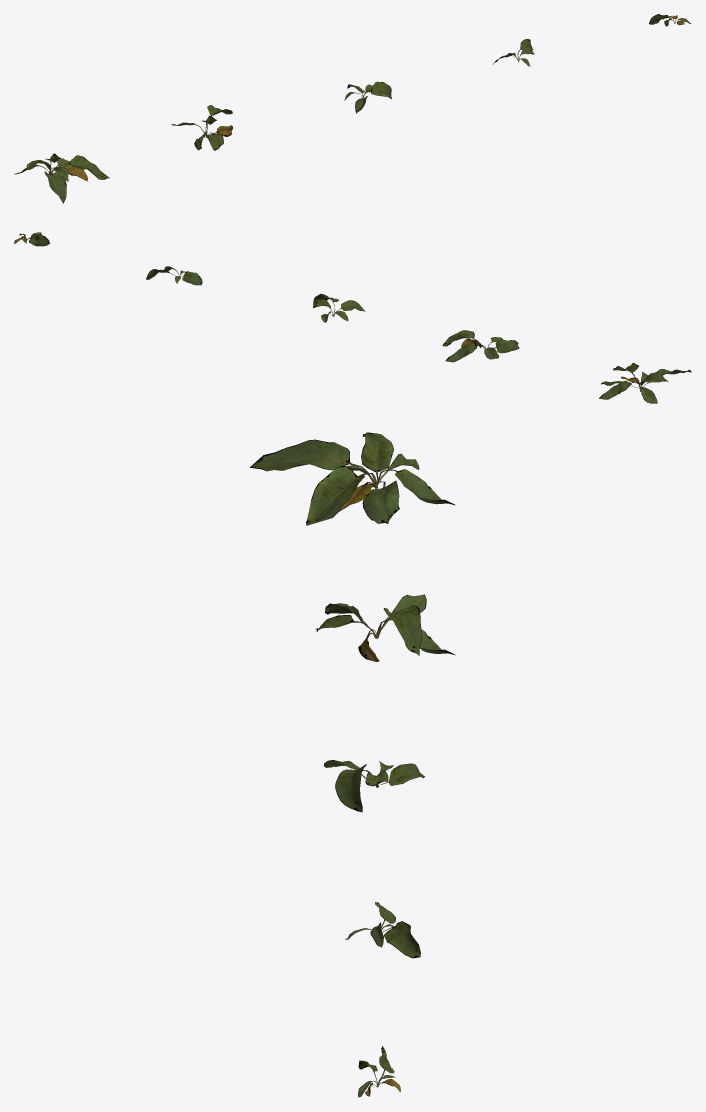
Rendered from weed_plant_02.glb.
3 renders of one model, top to bottom at view 1: azimuth 30°, elevation 25°; view 2: azimuth 150°, elevation 25°; view 3: azimuth 270°, elevation 25°, orthographic. The views are drawn at different scales.
Visible parts, largest first — view 1: weed_plant_02_a_LOD0, weed_plant_02_b_LOD0, weed_plant_02_c_LOD0, weed_plant_02_d_LOD0; view 2: weed_plant_02_a_LOD0, weed_plant_02_b_LOD0, weed_plant_02_c_LOD0, weed_plant_02_d_LOD0, weed_plant_02_e_LOD0; view 3: weed_plant_02_a_LOD0, weed_plant_02_b_LOD0, weed_plant_02_c_LOD0, weed_plant_02_d_LOD0.
Boxes of the visible parts, left/top/right/bottom form: weed_plant_02_a_LOD0: left=14, top=153, right=109, bottom=203; weed_plant_02_b_LOD0: left=171, top=105, right=232, bottom=150; weed_plant_02_c_LOD0: left=344, top=81, right=391, bottom=113; weed_plant_02_d_LOD0: left=493, top=39, right=534, bottom=66; weed_plant_02_a_LOD0: left=599, top=363, right=691, bottom=403; weed_plant_02_b_LOD0: left=442, top=330, right=519, bottom=362; weed_plant_02_c_LOD0: left=313, top=293, right=365, bottom=322; weed_plant_02_d_LOD0: left=146, top=266, right=202, bottom=285; weed_plant_02_e_LOD0: left=14, top=232, right=49, bottom=246; weed_plant_02_a_LOD0: left=250, top=432, right=455, bottom=525; weed_plant_02_b_LOD0: left=315, top=594, right=455, bottom=661; weed_plant_02_c_LOD0: left=323, top=760, right=424, bottom=812; weed_plant_02_d_LOD0: left=345, top=902, right=420, bottom=958.
Size of the model in its own units: 2.13 by 0.0747 by 0.2908.
Materials: 1 (1 with a texture image).
